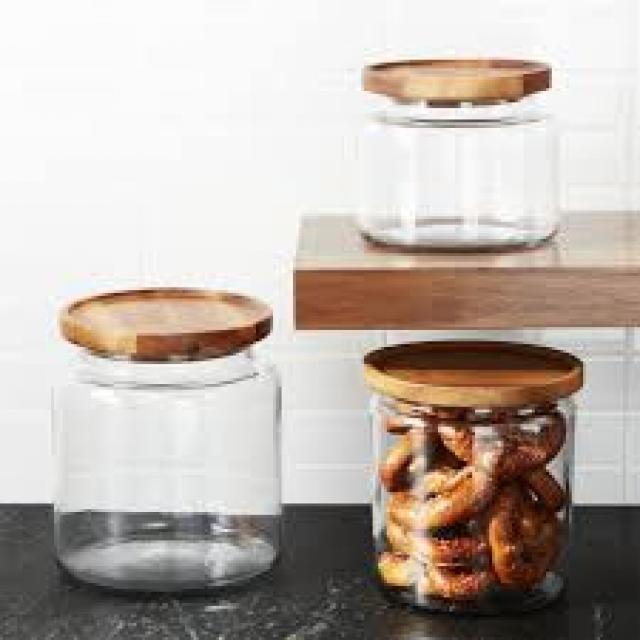organic waste: (489, 475, 558, 583), (438, 412, 558, 470), (387, 466, 492, 524), (376, 429, 432, 484), (421, 560, 495, 600), (415, 526, 484, 558), (378, 518, 424, 554), (378, 552, 424, 583), (378, 404, 432, 429)
